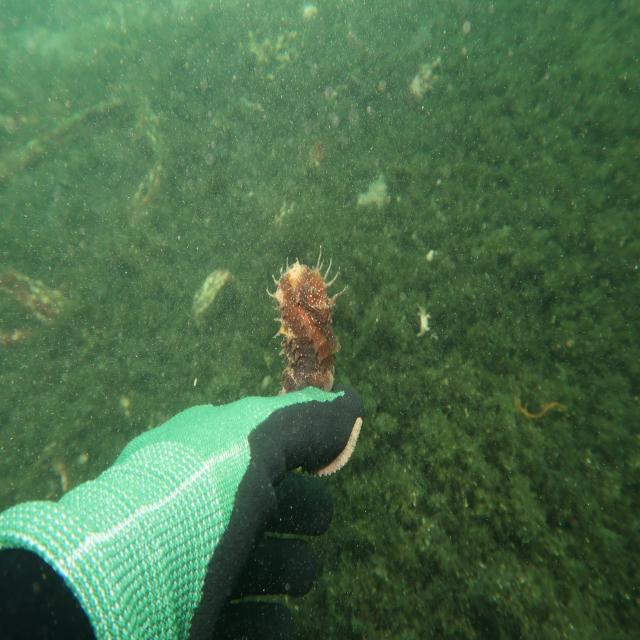Guttu: (294, 267, 343, 362)
